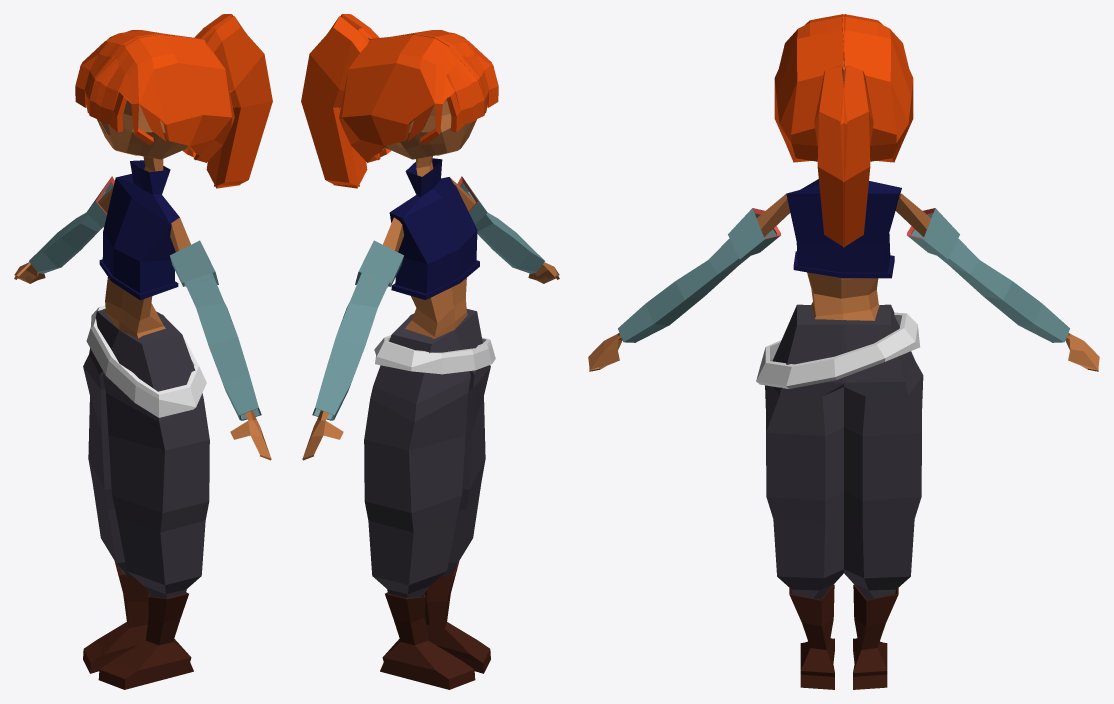
File: shock wave.fbx
The picture shows the model from 3 angles, left to right: view 1: azimuth 30°, elevation 25°; view 2: azimuth 150°, elevation 25°; view 3: azimuth 270°, elevation 25°; orthographic projection. The views are drawn at different scales.
Visible parts, largest first — view 1: legs, hair, hands.002, clothes, shoes, Torus, neck, head, hands; view 2: legs, hair, clothes, hands.002, shoes, Torus, neck, head, hands; view 3: legs, hair, hands.002, clothes, shoes, Torus, hands, neck.
Boxes of the visible parts, bbox=[...] form: legs: bbox=[83, 309, 209, 597]; hair: bbox=[75, 14, 272, 188]; hands.002: bbox=[29, 176, 261, 420]; clothes: bbox=[99, 160, 179, 300]; shoes: bbox=[83, 561, 193, 689]; Torus: bbox=[86, 305, 206, 417]; neck: bbox=[105, 156, 165, 338]; head: bbox=[97, 100, 189, 159]; hands: bbox=[14, 187, 271, 460]; legs: bbox=[364, 309, 490, 597]; hair: bbox=[301, 14, 498, 188]; clothes: bbox=[389, 158, 479, 299]; hands.002: bbox=[312, 176, 544, 420]; shoes: bbox=[380, 561, 490, 689]; Torus: bbox=[374, 335, 495, 374]; neck: bbox=[405, 156, 467, 338]; head: bbox=[384, 100, 476, 159]; hands: bbox=[302, 177, 559, 460]; legs: bbox=[765, 304, 923, 599]; hair: bbox=[774, 14, 913, 247]; hands.002: bbox=[618, 208, 1069, 342]; clothes: bbox=[786, 179, 901, 278]; shoes: bbox=[789, 584, 898, 689]; Torus: bbox=[756, 312, 920, 388]; hands: bbox=[588, 193, 1099, 371]; neck: bbox=[807, 272, 879, 320].
Bounding box in the file's own units: 126 × 442 × 313.
